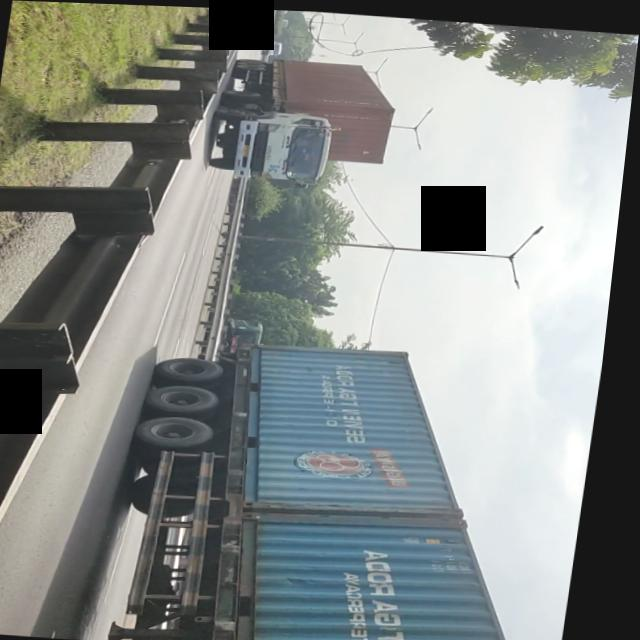Golongan V: (202, 51, 397, 188)
